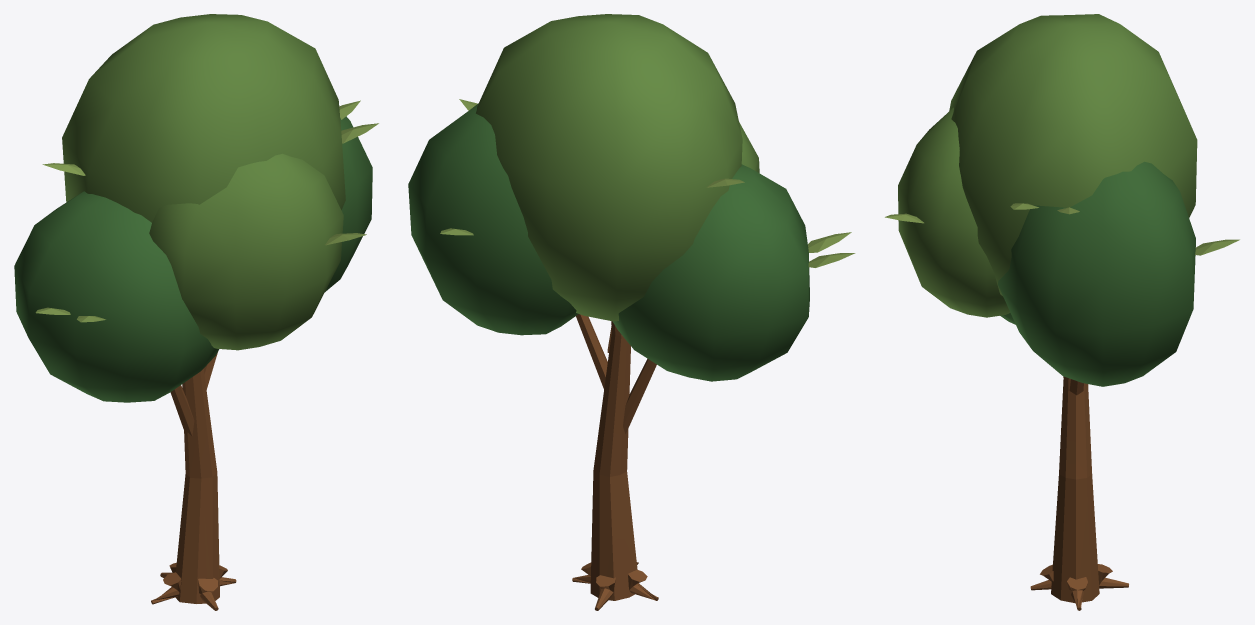
File: Plant_Forest_Sapling_001.glb
The picture shows the model from 3 angles, left to right: view 1: azimuth 30°, elevation 25°; view 2: azimuth 150°, elevation 25°; view 3: azimuth 270°, elevation 25°; orthographic projection.
Parts seen in each view (by area): view 1: FR_Sapling_Body; view 2: FR_Sapling_Body; view 3: FR_Sapling_Body.
Boxes of the visible parts, bbox=[...] form: FR_Sapling_Body: bbox=[14, 14, 378, 610]; FR_Sapling_Body: bbox=[408, 14, 855, 610]; FR_Sapling_Body: bbox=[885, 14, 1239, 610].
Size of the model in its own units: 1.94 by 2.82 by 1.6.
